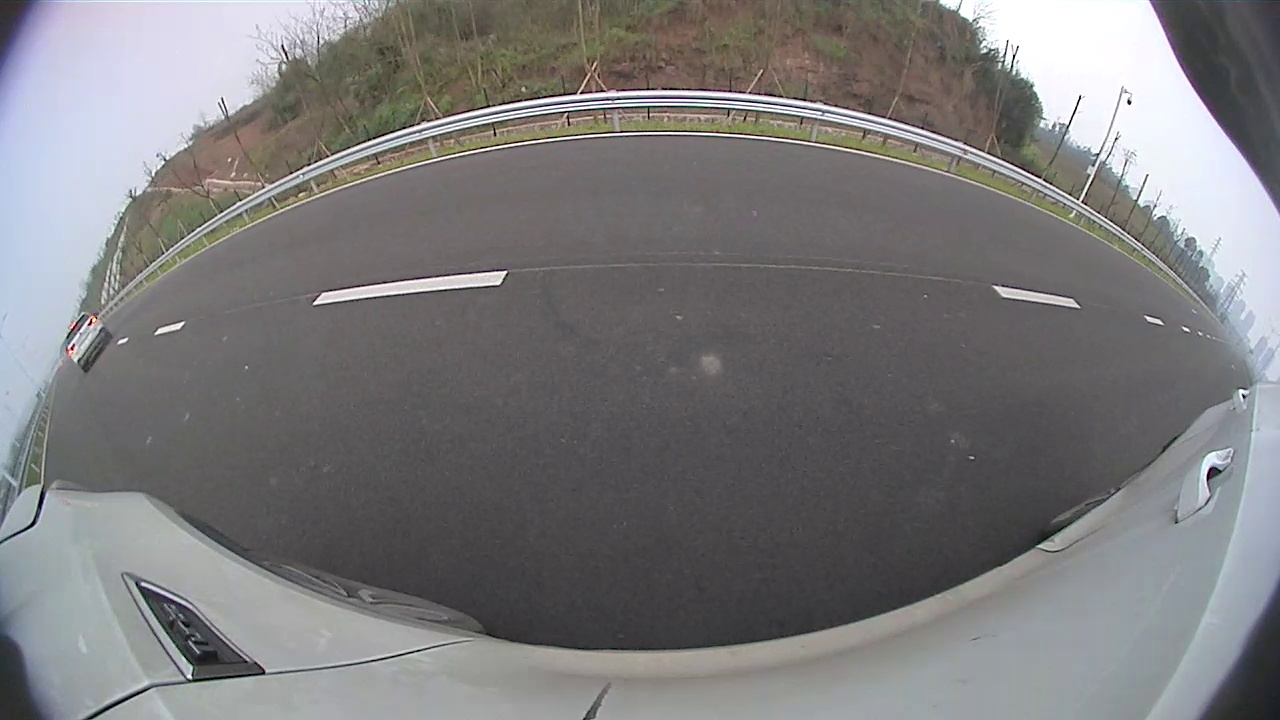car: (719, 150, 790, 197)
front: (718, 175, 726, 192)
rear: (732, 175, 742, 195)
